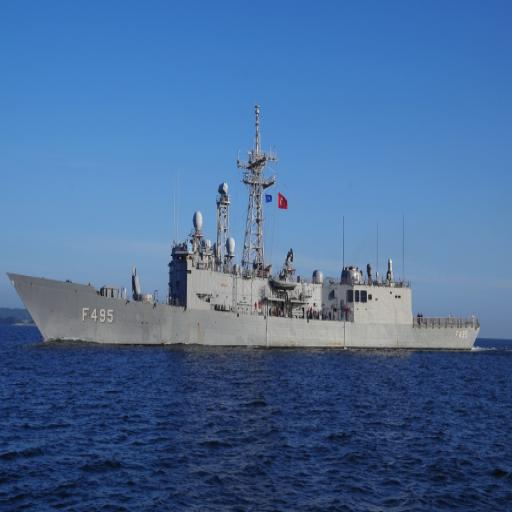Fragata: (8, 100, 482, 355)
